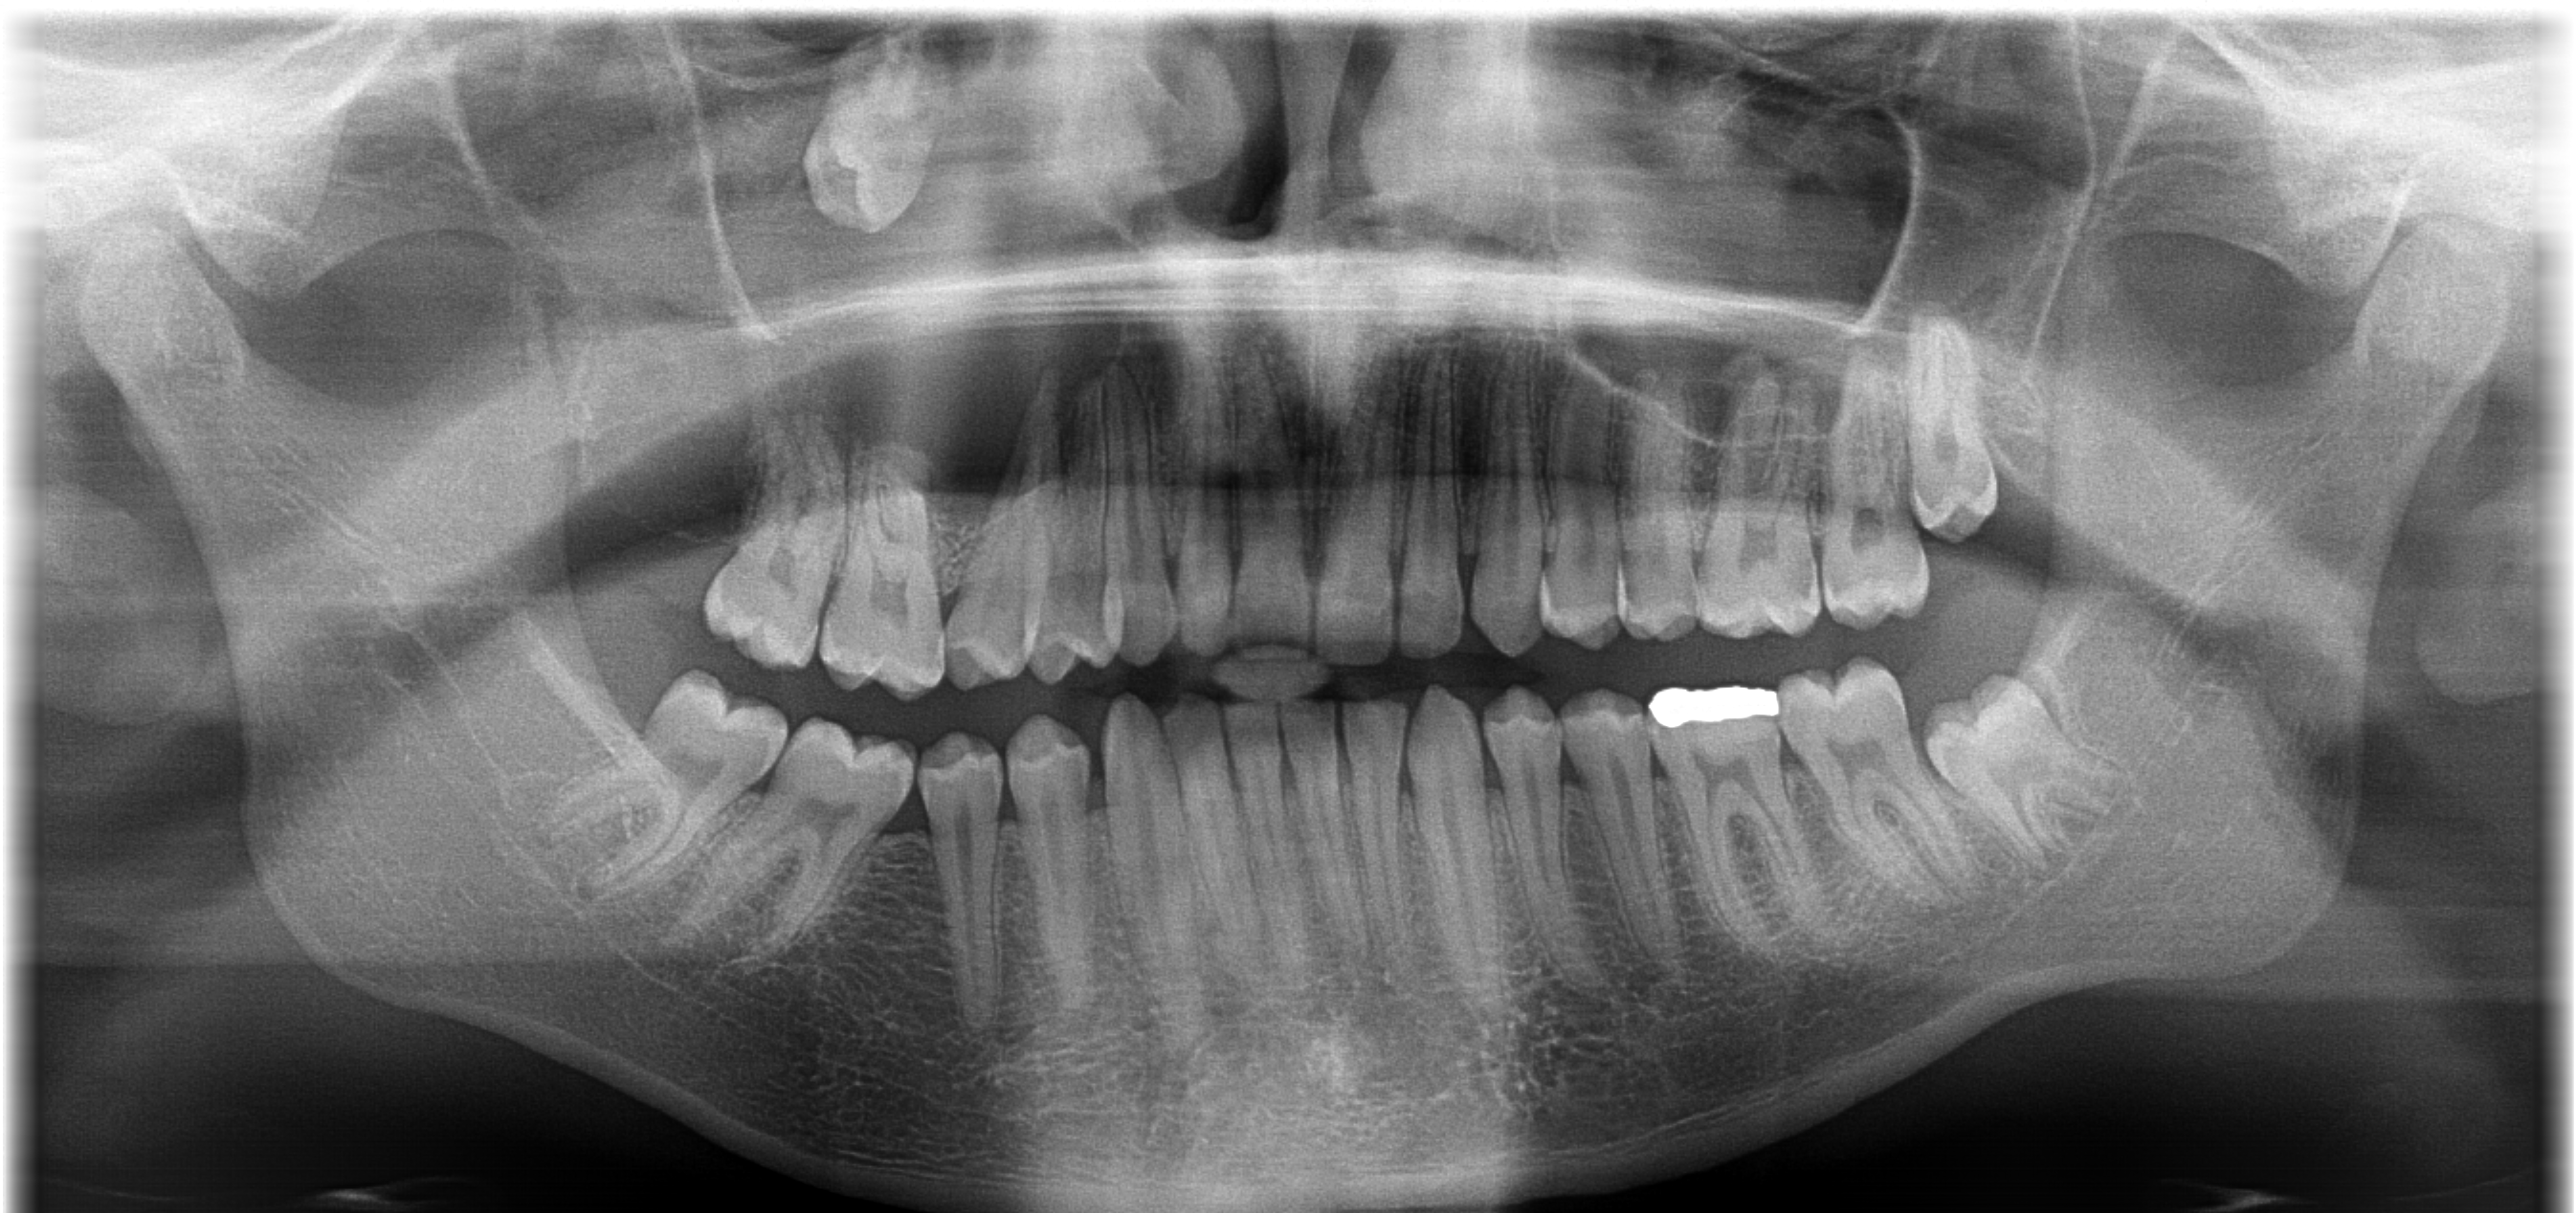cordal: (1850, 286, 2078, 561), (1916, 657, 2144, 881)
